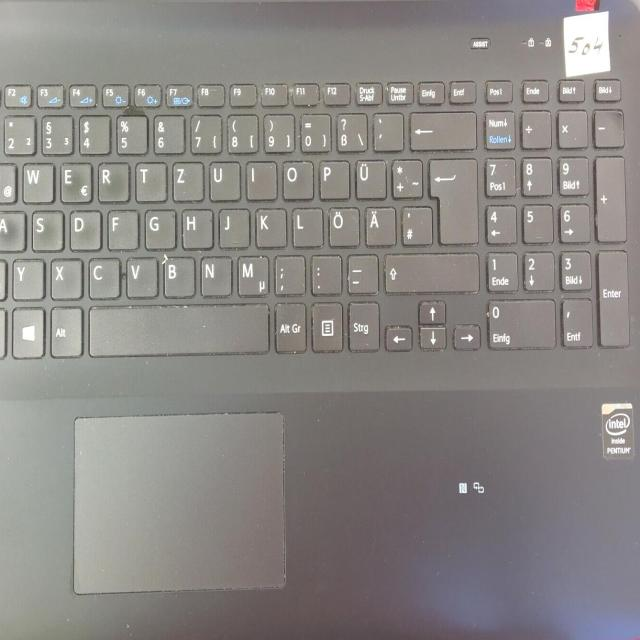0: (297, 110, 330, 151)
1: (0, 112, 16, 153)
2: (1, 113, 34, 154)
3: (38, 113, 72, 153)
4: (77, 112, 109, 152)
5: (113, 112, 146, 152)
6: (151, 111, 183, 152)
7: (188, 111, 220, 152)
8: (225, 111, 257, 152)
9: (261, 111, 293, 152)
a: (0, 207, 24, 250)
accent: (371, 109, 402, 150)
ae: (363, 203, 395, 245)
alt-left: (47, 303, 81, 356)
altgr-right: (272, 299, 305, 351)
b: (160, 253, 194, 296)
c: (86, 254, 119, 297)
caret: (0, 111, 11, 153)
comma: (271, 251, 304, 294)
d: (67, 206, 100, 249)
del: (407, 107, 475, 148)
e: (57, 159, 91, 202)
enter: (426, 153, 477, 243)
f: (105, 206, 137, 248)
g: (142, 206, 174, 247)
h: (179, 205, 211, 247)
hash: (399, 203, 430, 244)
i: (244, 157, 276, 199)
j: (216, 205, 248, 247)
k: (253, 204, 285, 246)
keyboard: (0, 65, 634, 376)
l: (289, 204, 321, 246)
less: (0, 255, 16, 298)
m: (235, 251, 268, 295)
minus: (344, 251, 377, 293)
n: (197, 253, 230, 295)
o: (280, 156, 312, 198)
oe: (325, 204, 358, 246)
p: (316, 156, 348, 198)
plus: (389, 155, 421, 196)
point: (308, 251, 340, 294)
q: (0, 160, 17, 202)
r: (95, 159, 128, 201)
s: (29, 207, 62, 249)
shift-left: (0, 256, 17, 300)
shift-lock: (0, 208, 26, 250)
shift-right: (382, 249, 478, 291)
space: (86, 300, 268, 355)
ss: (333, 109, 366, 150)
strg-left: (0, 305, 18, 358)
strg-right: (345, 298, 378, 350)
t: (133, 158, 165, 200)
tab: (0, 159, 21, 202)
u: (206, 157, 239, 200)
ue: (353, 156, 385, 198)
v: (124, 254, 157, 296)
w: (20, 159, 53, 202)
x: (48, 255, 81, 298)
y: (10, 256, 43, 299)
z: (170, 158, 202, 201)
